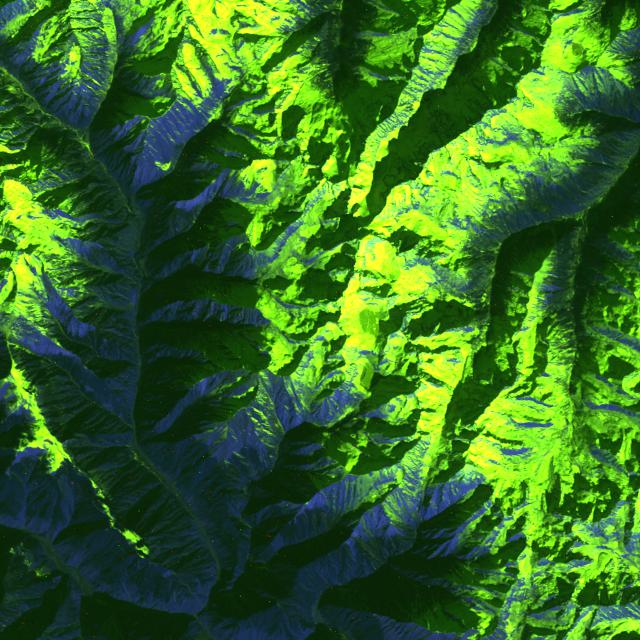landslides: (258, 367, 283, 431), (249, 403, 277, 435), (219, 242, 245, 274), (451, 83, 467, 129), (181, 582, 204, 607), (465, 85, 490, 108), (285, 376, 301, 408), (400, 482, 418, 510), (383, 502, 404, 523), (526, 234, 539, 266), (416, 122, 436, 142), (573, 433, 591, 455), (578, 260, 603, 275), (574, 182, 596, 199), (423, 34, 456, 45), (461, 102, 478, 123), (0, 268, 13, 295), (0, 279, 15, 302), (388, 495, 404, 516), (397, 490, 409, 517), (420, 48, 446, 60), (93, 25, 115, 39), (202, 243, 216, 260), (410, 80, 428, 92), (261, 427, 278, 439), (174, 591, 182, 615), (403, 90, 422, 100), (262, 442, 278, 453), (360, 517, 370, 534), (440, 90, 447, 114), (556, 330, 574, 338), (194, 632, 211, 640), (424, 43, 442, 50), (300, 625, 308, 640), (382, 124, 392, 135), (322, 577, 332, 588)
